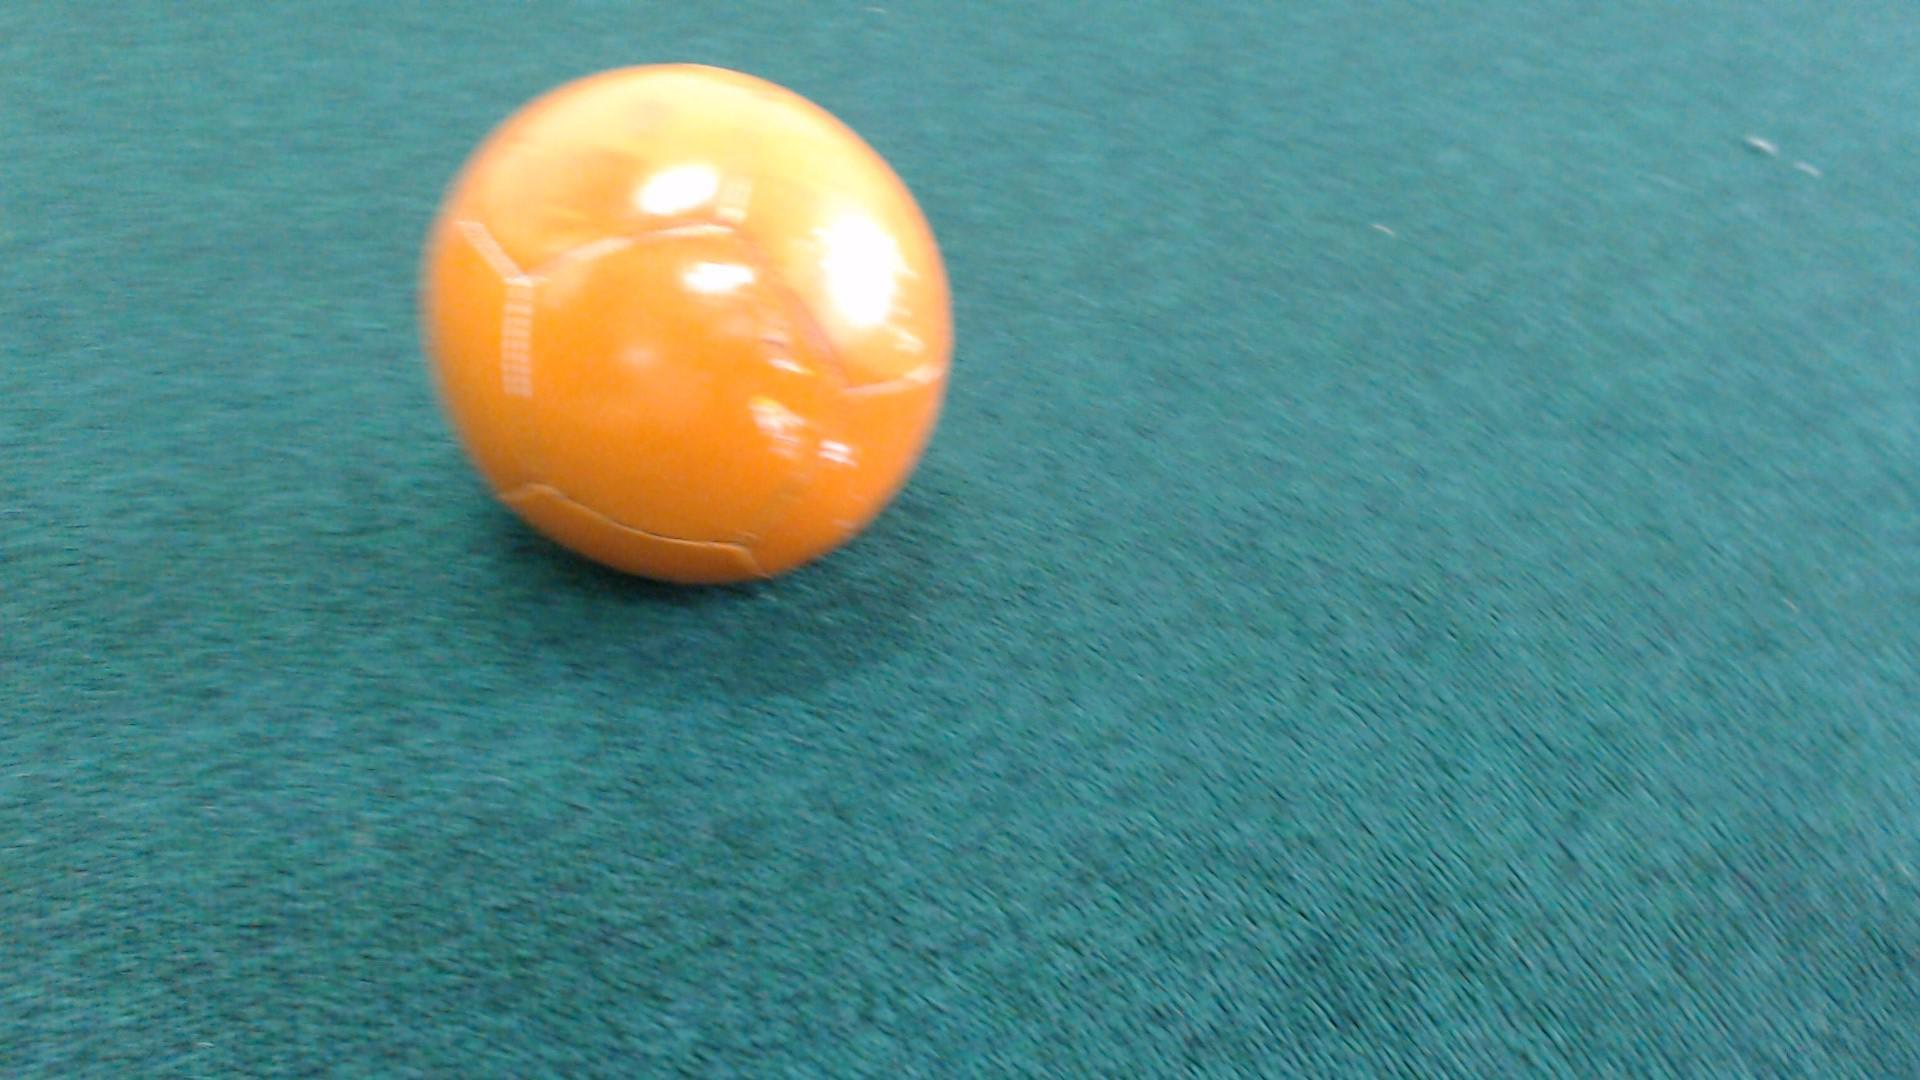bola: (385, 29, 1014, 636)
